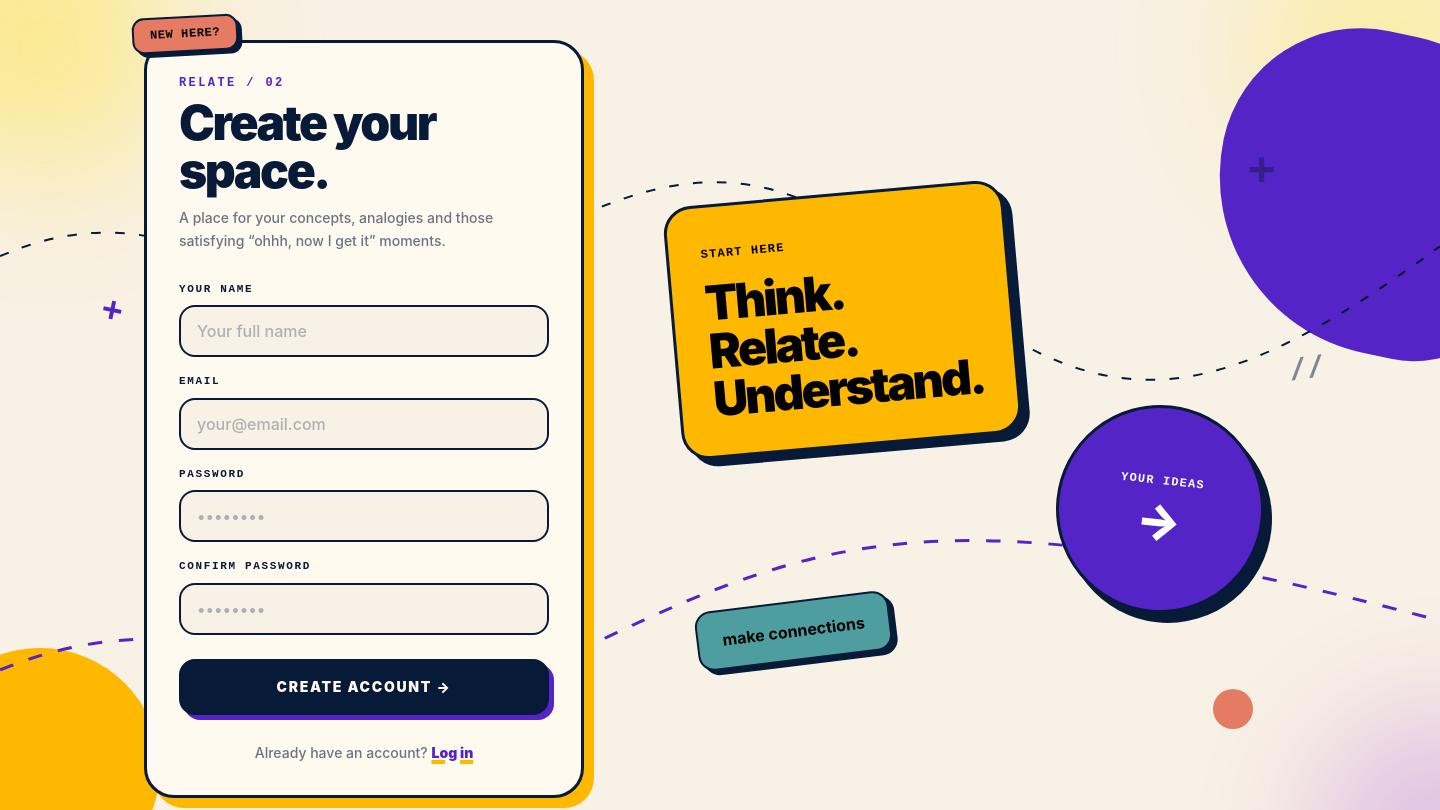
Scenario: RegisterPage › inline validation - empty fields › should display inline error when email field is empty at submission
Type "Test User" into the field labelled "Your name" at (364, 331), box [179,305,549,357]
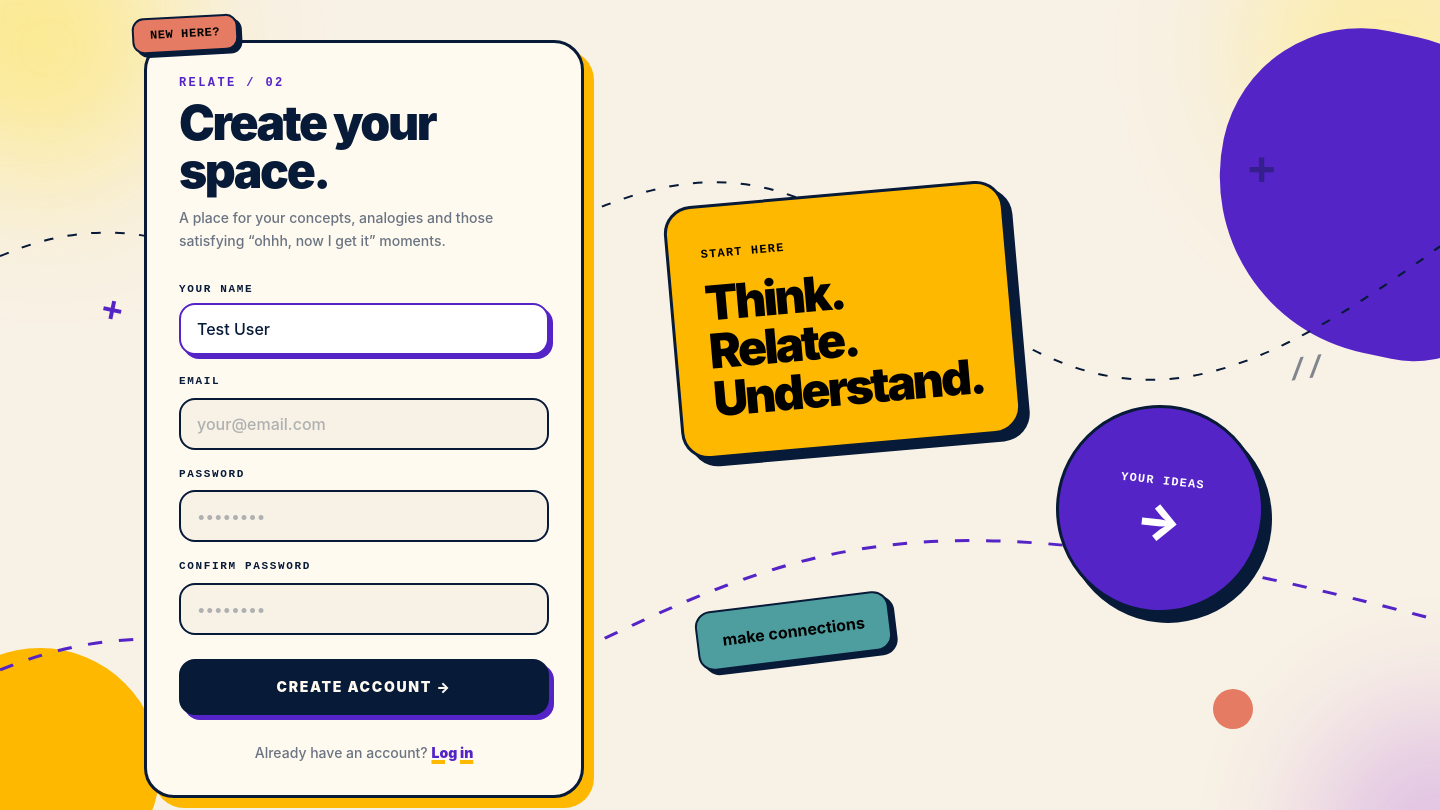
Type "password123" into the password field labelled "Password" at (364, 516), box [179,490,549,542]
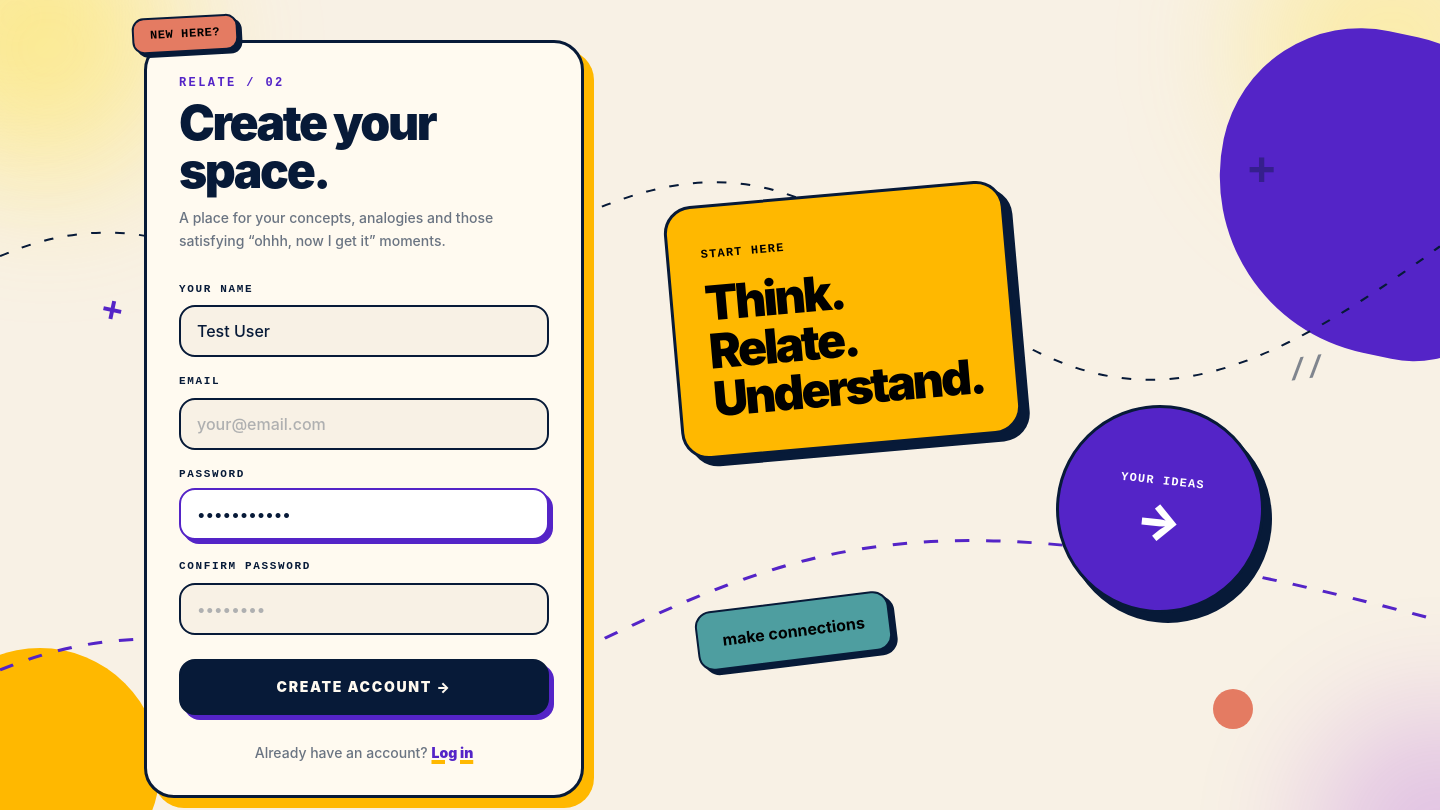
Type "password123" into the password field labelled "Confirm password" at (364, 608), box [179,582,549,634]
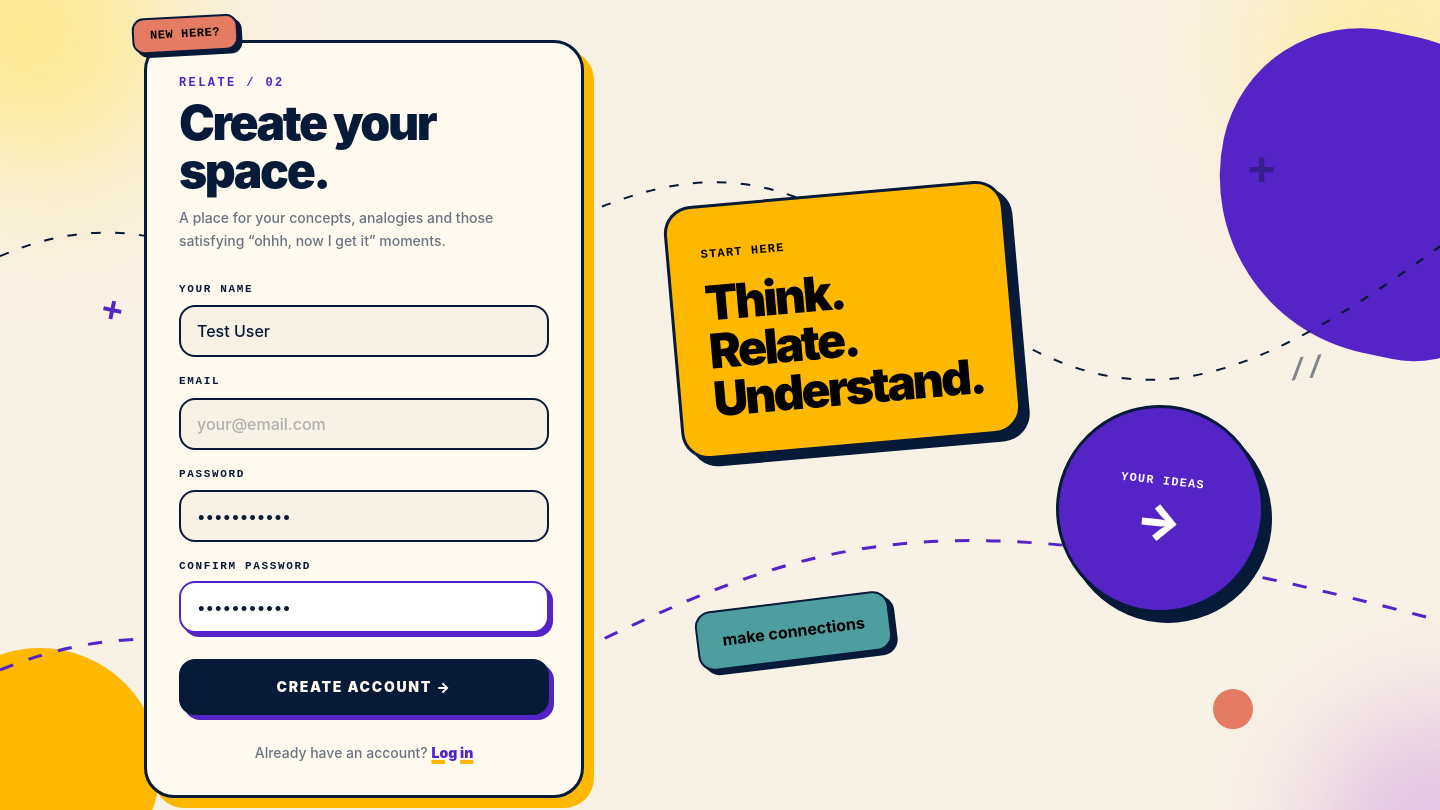
Click the button "Create account →" at (364, 686), box [179,658,549,714]
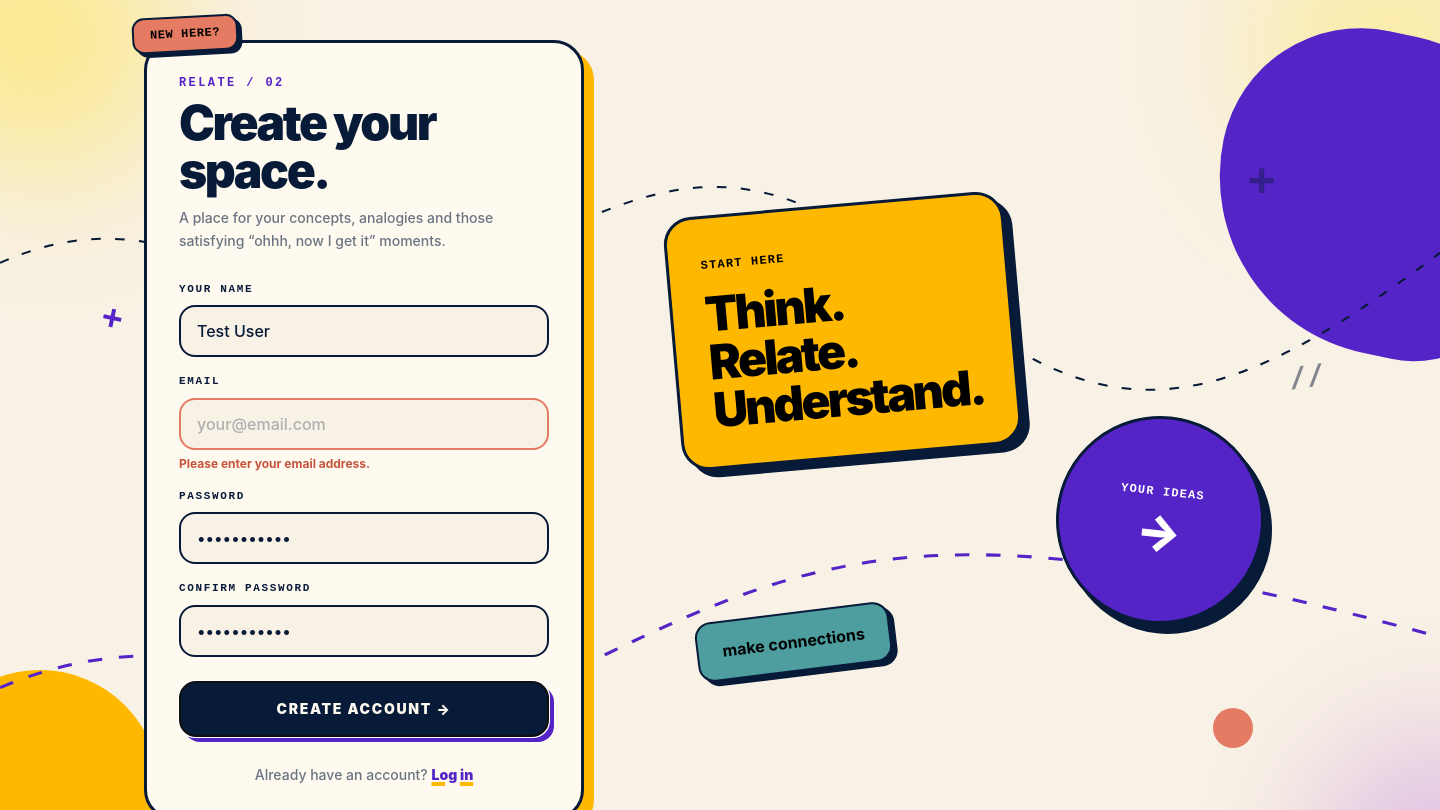
Result: the text "Please enter your email address." is shown at [179,456,370,470]
